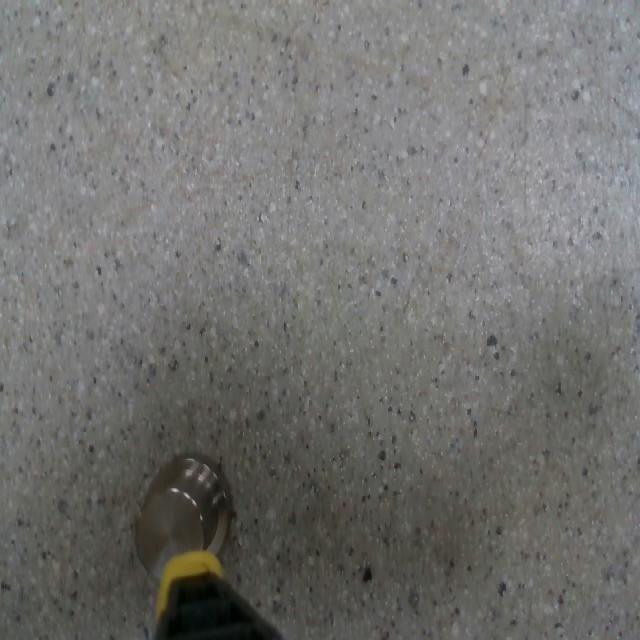sensor: (133, 452, 236, 580)
